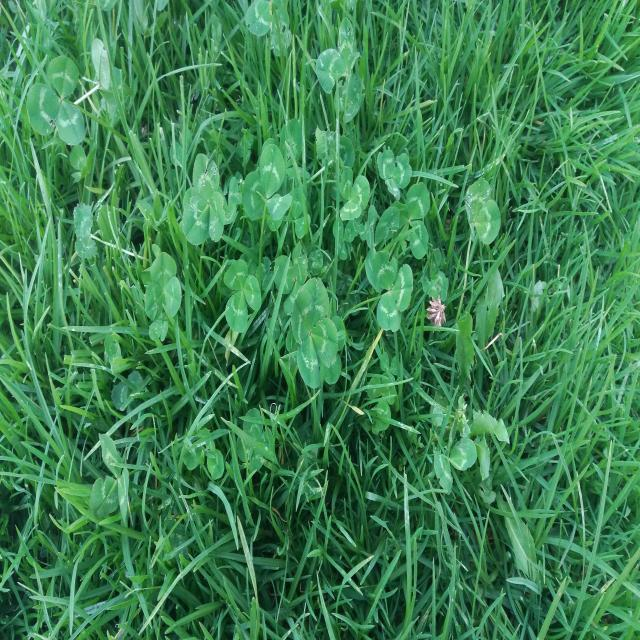Four Leaf Clover: (291, 277, 338, 388)
